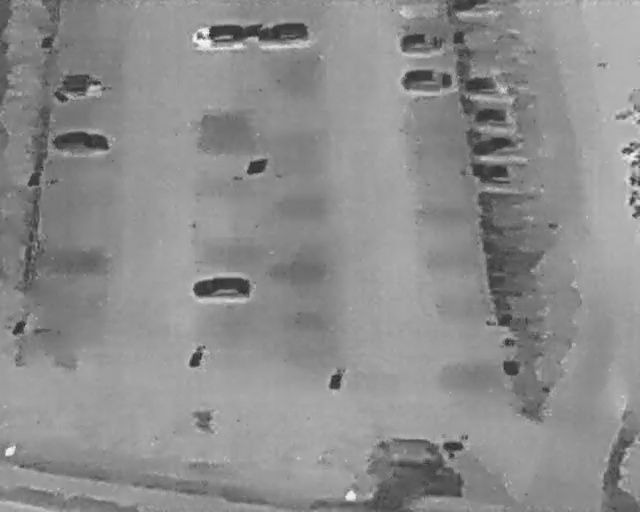Car: (369, 437, 449, 485), (52, 130, 111, 157), (192, 274, 251, 299), (56, 74, 105, 101), (191, 25, 246, 48), (399, 70, 454, 93), (474, 163, 525, 186), (259, 23, 308, 46), (465, 76, 510, 101), (472, 136, 519, 159), (401, 34, 446, 56), (473, 107, 515, 127)
